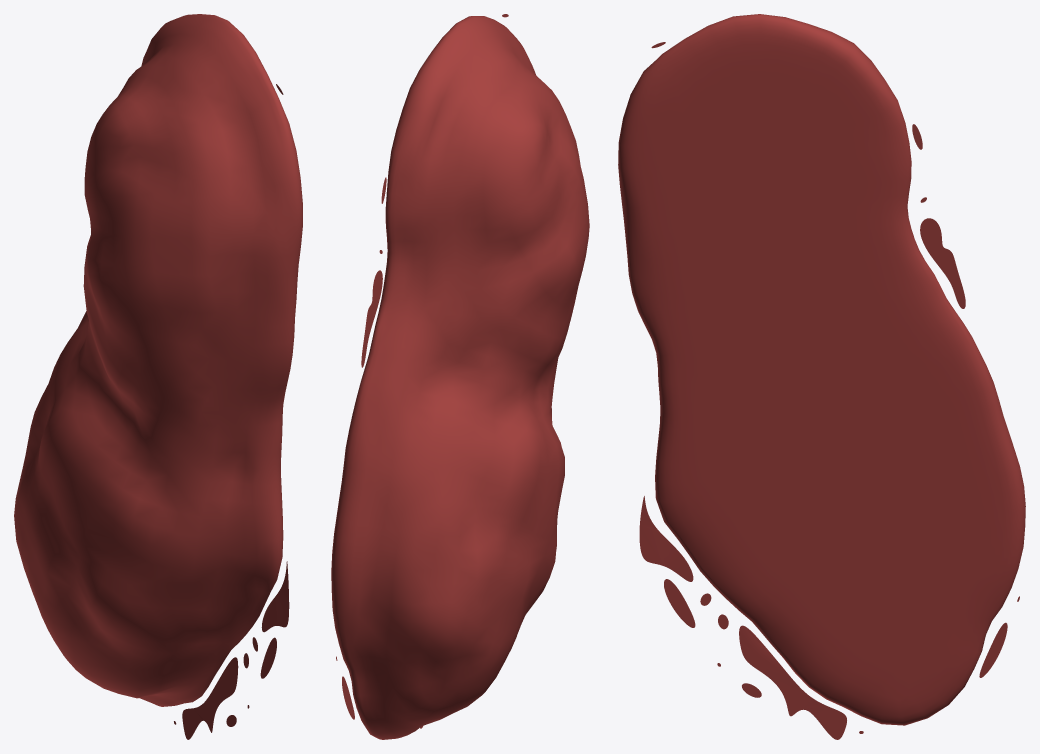
Rendered from Bladder.obj.
The picture shows the model from 3 angles, left to right: view 1: azimuth 30°, elevation 25°; view 2: azimuth 150°, elevation 25°; view 3: azimuth 270°, elevation 25°; orthographic projection. The views are drawn at different scales.
Parts seen in each view (by area): view 1: Bladder; view 2: Bladder; view 3: Bladder.
Boxes of the visible parts, x1,y1,x2,y2 form: Bladder: (14, 14, 302, 739); Bladder: (331, 14, 589, 739); Bladder: (618, 14, 1025, 739).
Bounding box in the file's own units: 0.6707 × 3.51 × 1.79.
